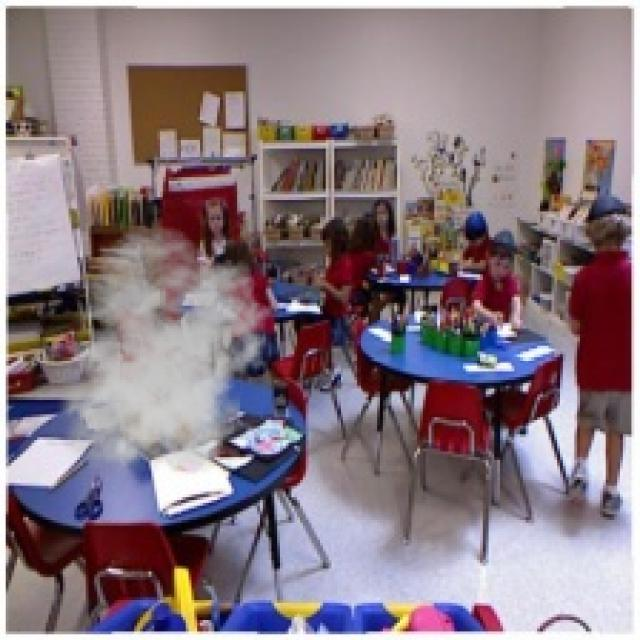smoke: (49, 226, 274, 483)
